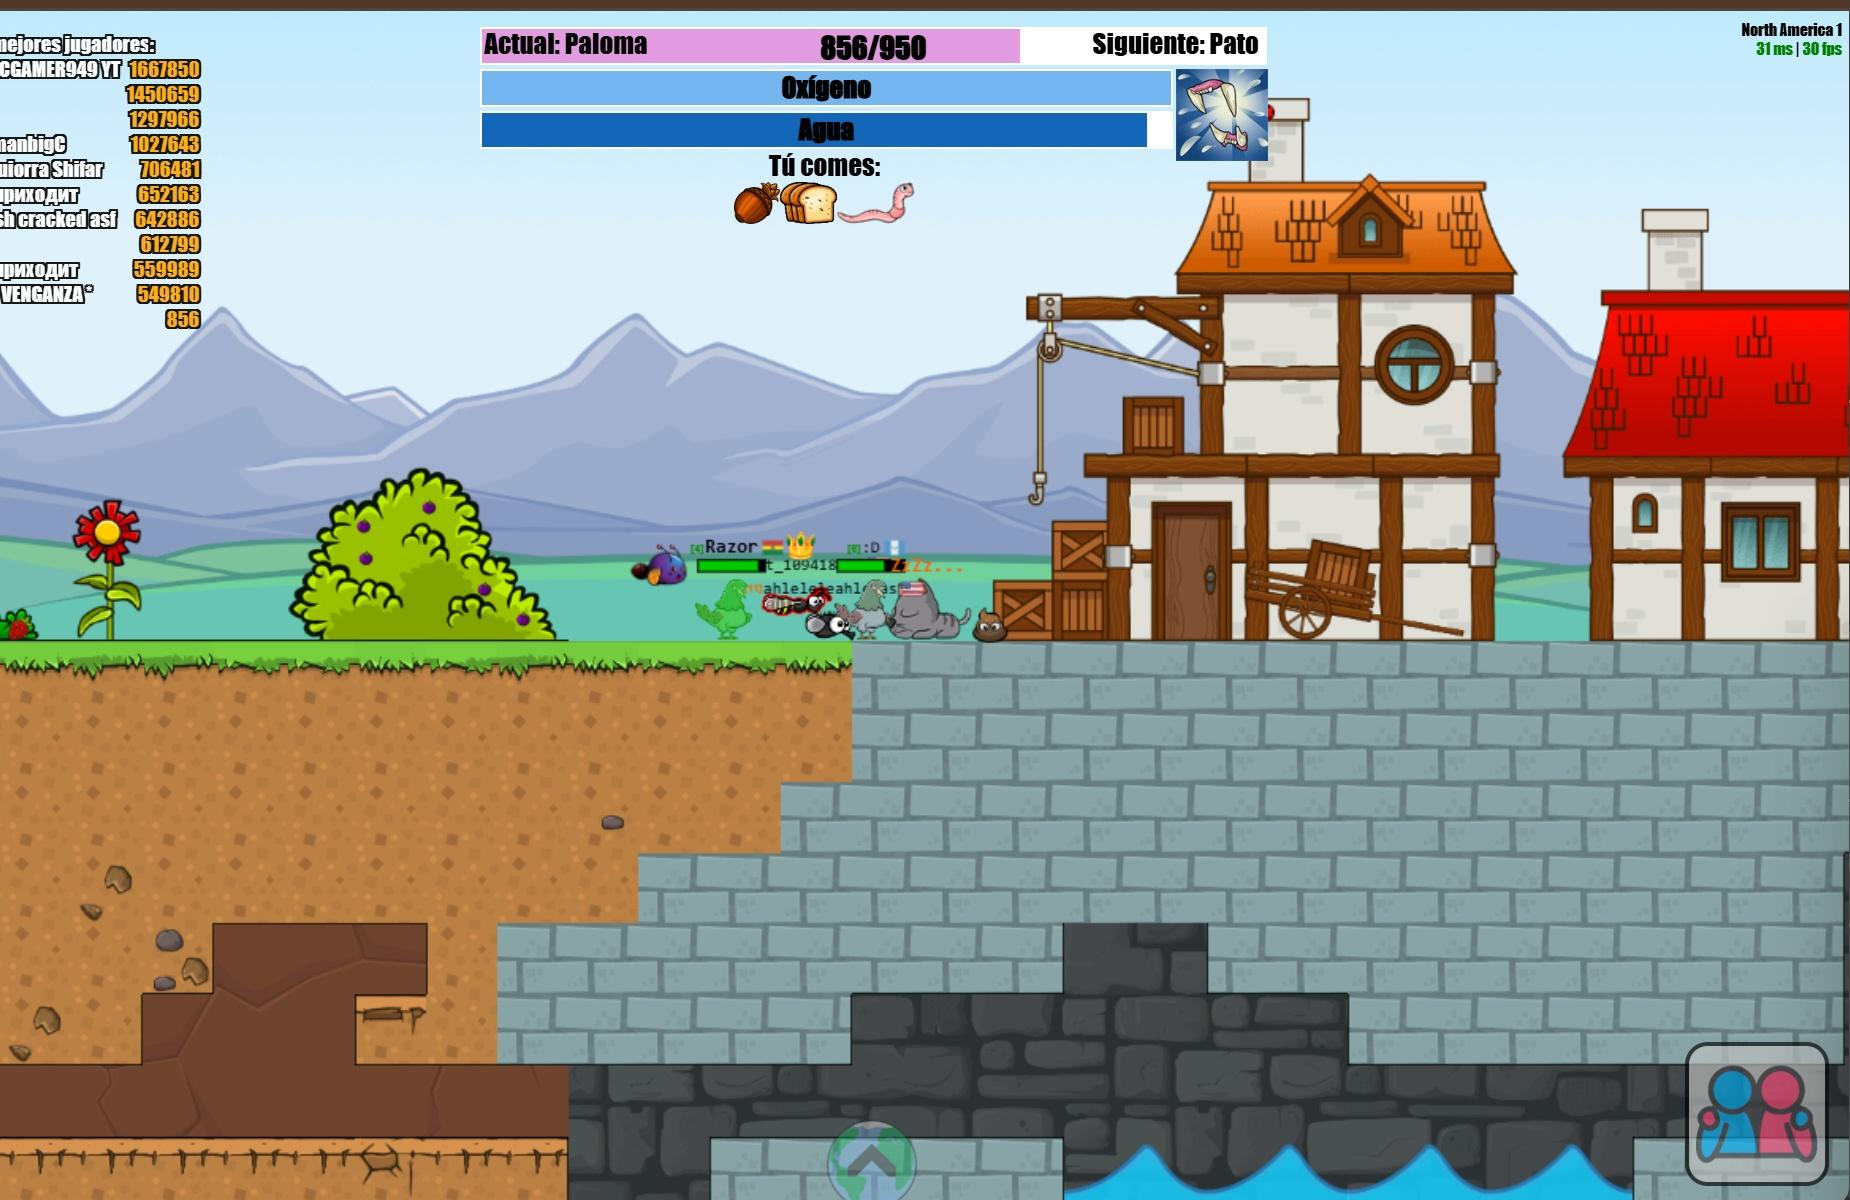arandano: (516, 612, 530, 626), (356, 520, 369, 533), (359, 553, 372, 564), (422, 502, 434, 512), (479, 584, 491, 595)
arbusto: (291, 469, 554, 639)
avispa: (762, 584, 832, 615)
flor: (76, 499, 140, 566)
gato: (889, 580, 960, 639)
mascota: (632, 546, 685, 585)
mosca: (808, 616, 856, 639)
paloma: (697, 578, 751, 639), (837, 580, 886, 632)
popo: (972, 611, 1007, 640)
